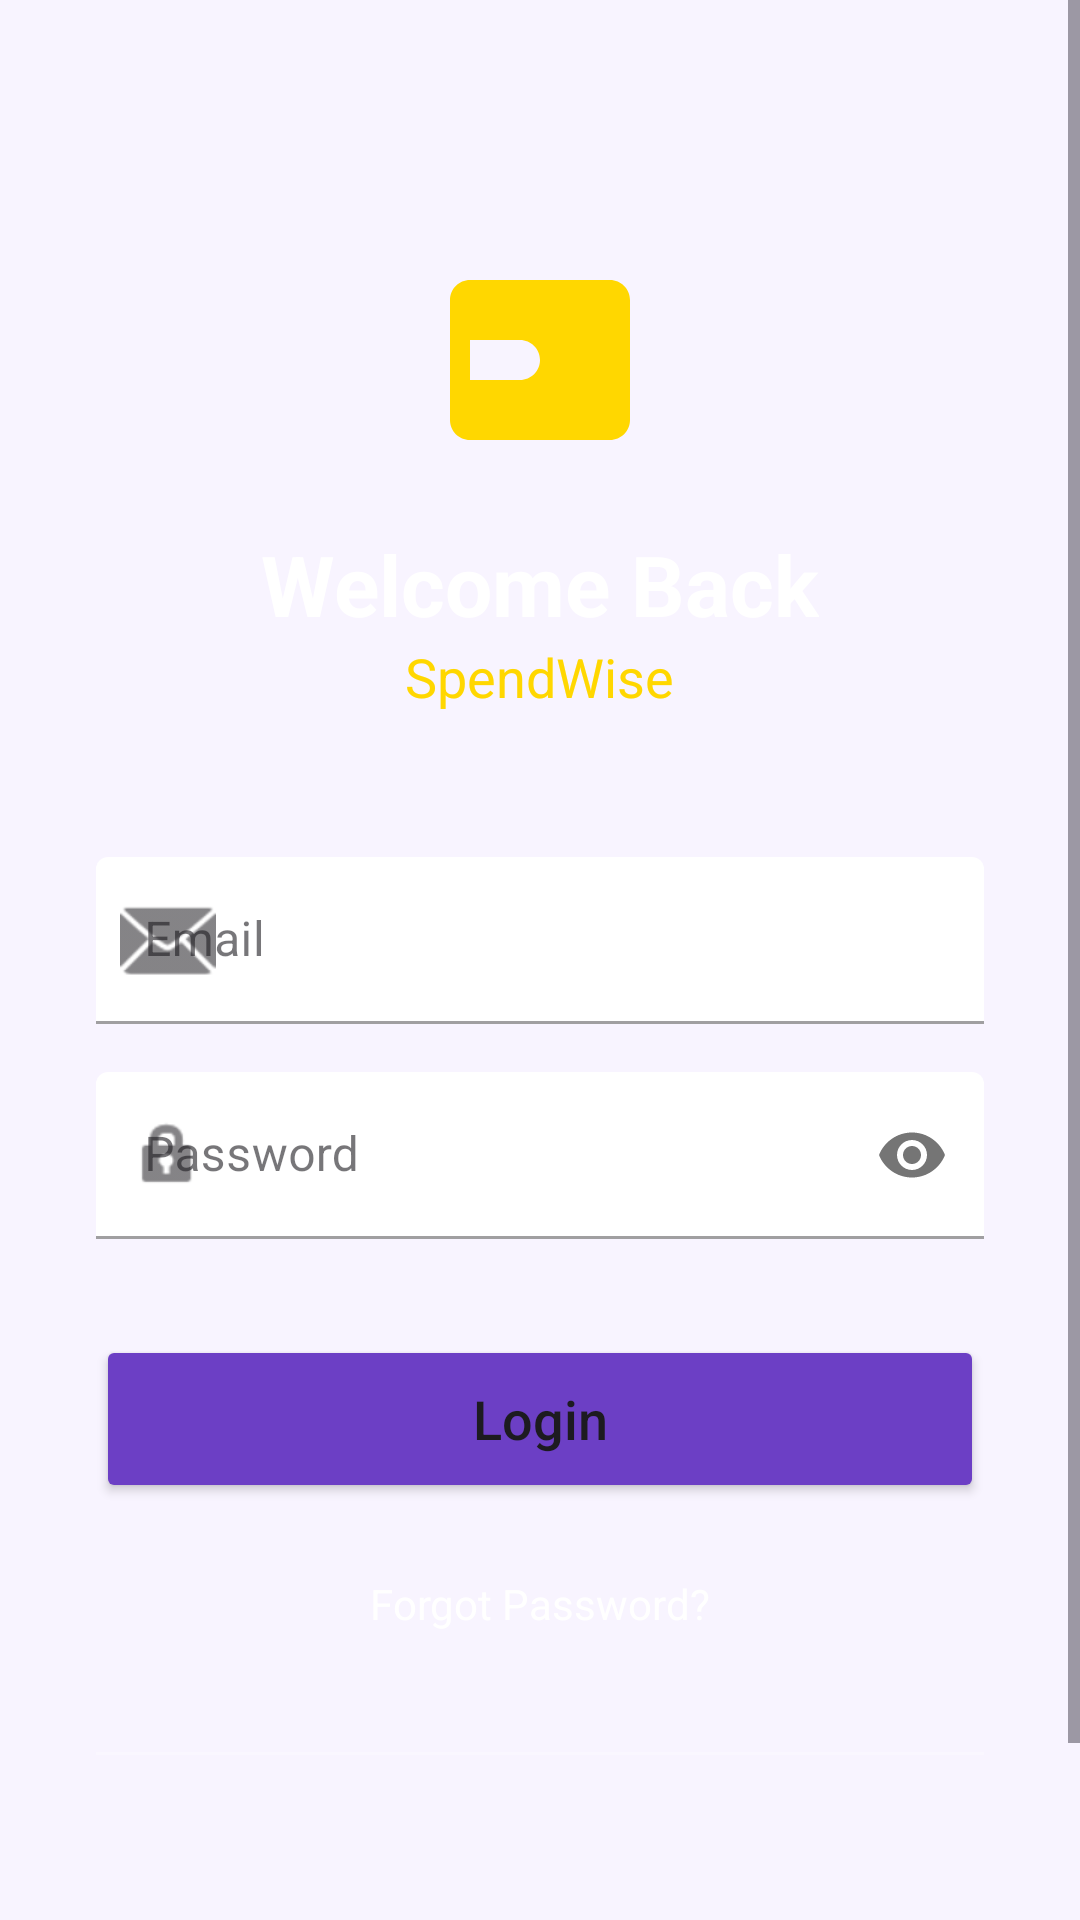

Where icons sit on this 1080w x 1920h app screen, as (x1, y1, x2, y2):
wallet: (450, 280, 630, 440)
